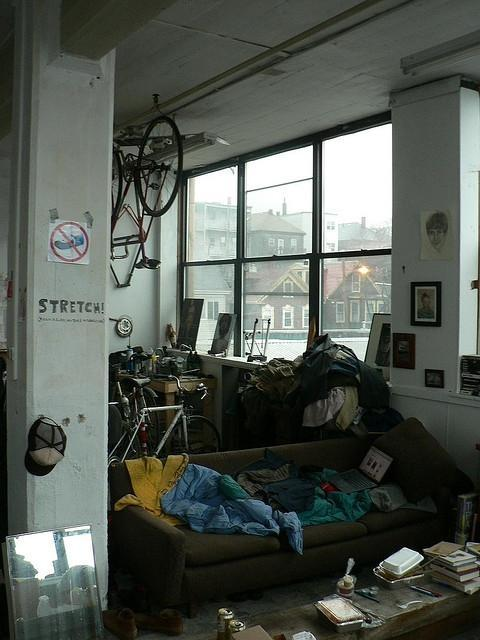bicycle: (110, 113, 188, 275), (109, 375, 221, 464)
